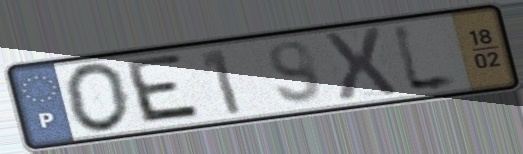1: (199, 46, 245, 117)
9: (265, 39, 326, 107)
E: (124, 51, 207, 127)
L: (387, 18, 466, 98)
O: (62, 60, 134, 136)
X: (318, 25, 401, 106)
